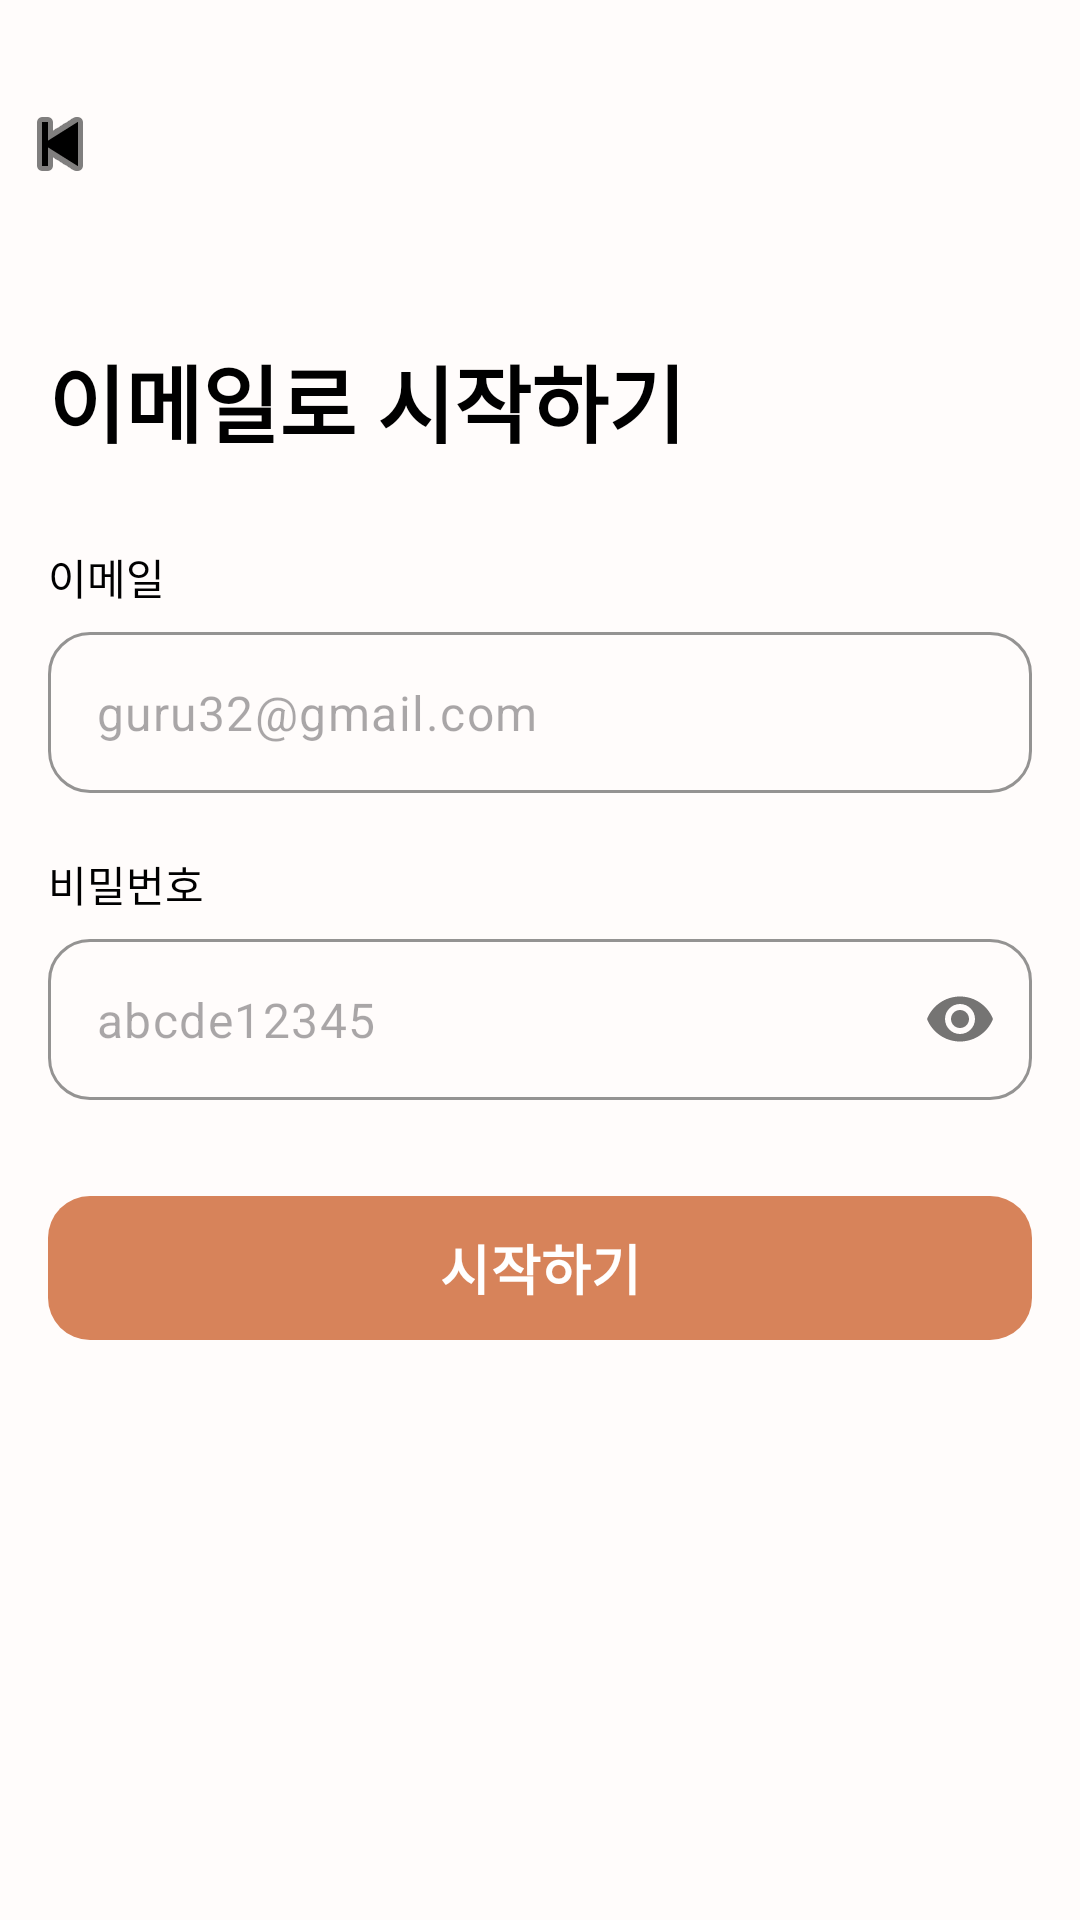

Point at icon controls on the screen. Image size 1080 x 1920, points as (x=x, y=y).
back: (x=60, y=144)
